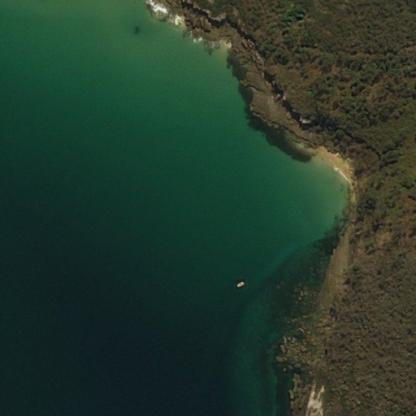ship: (230, 275, 248, 291)
